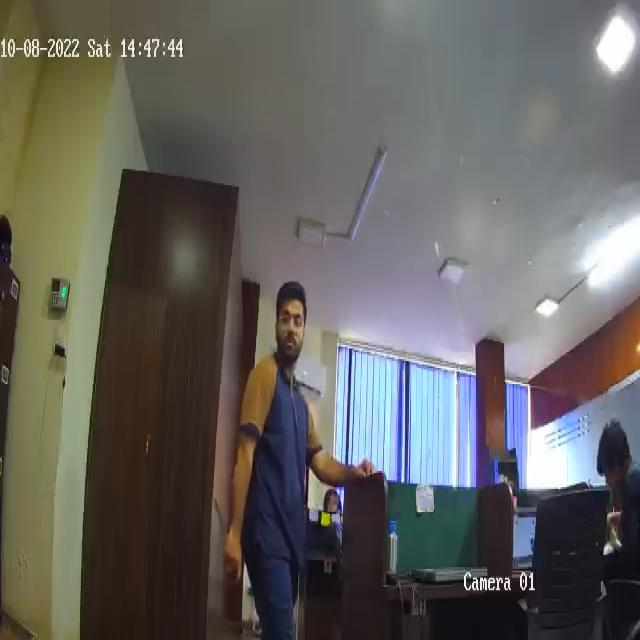weapon: (213, 491, 237, 576)
